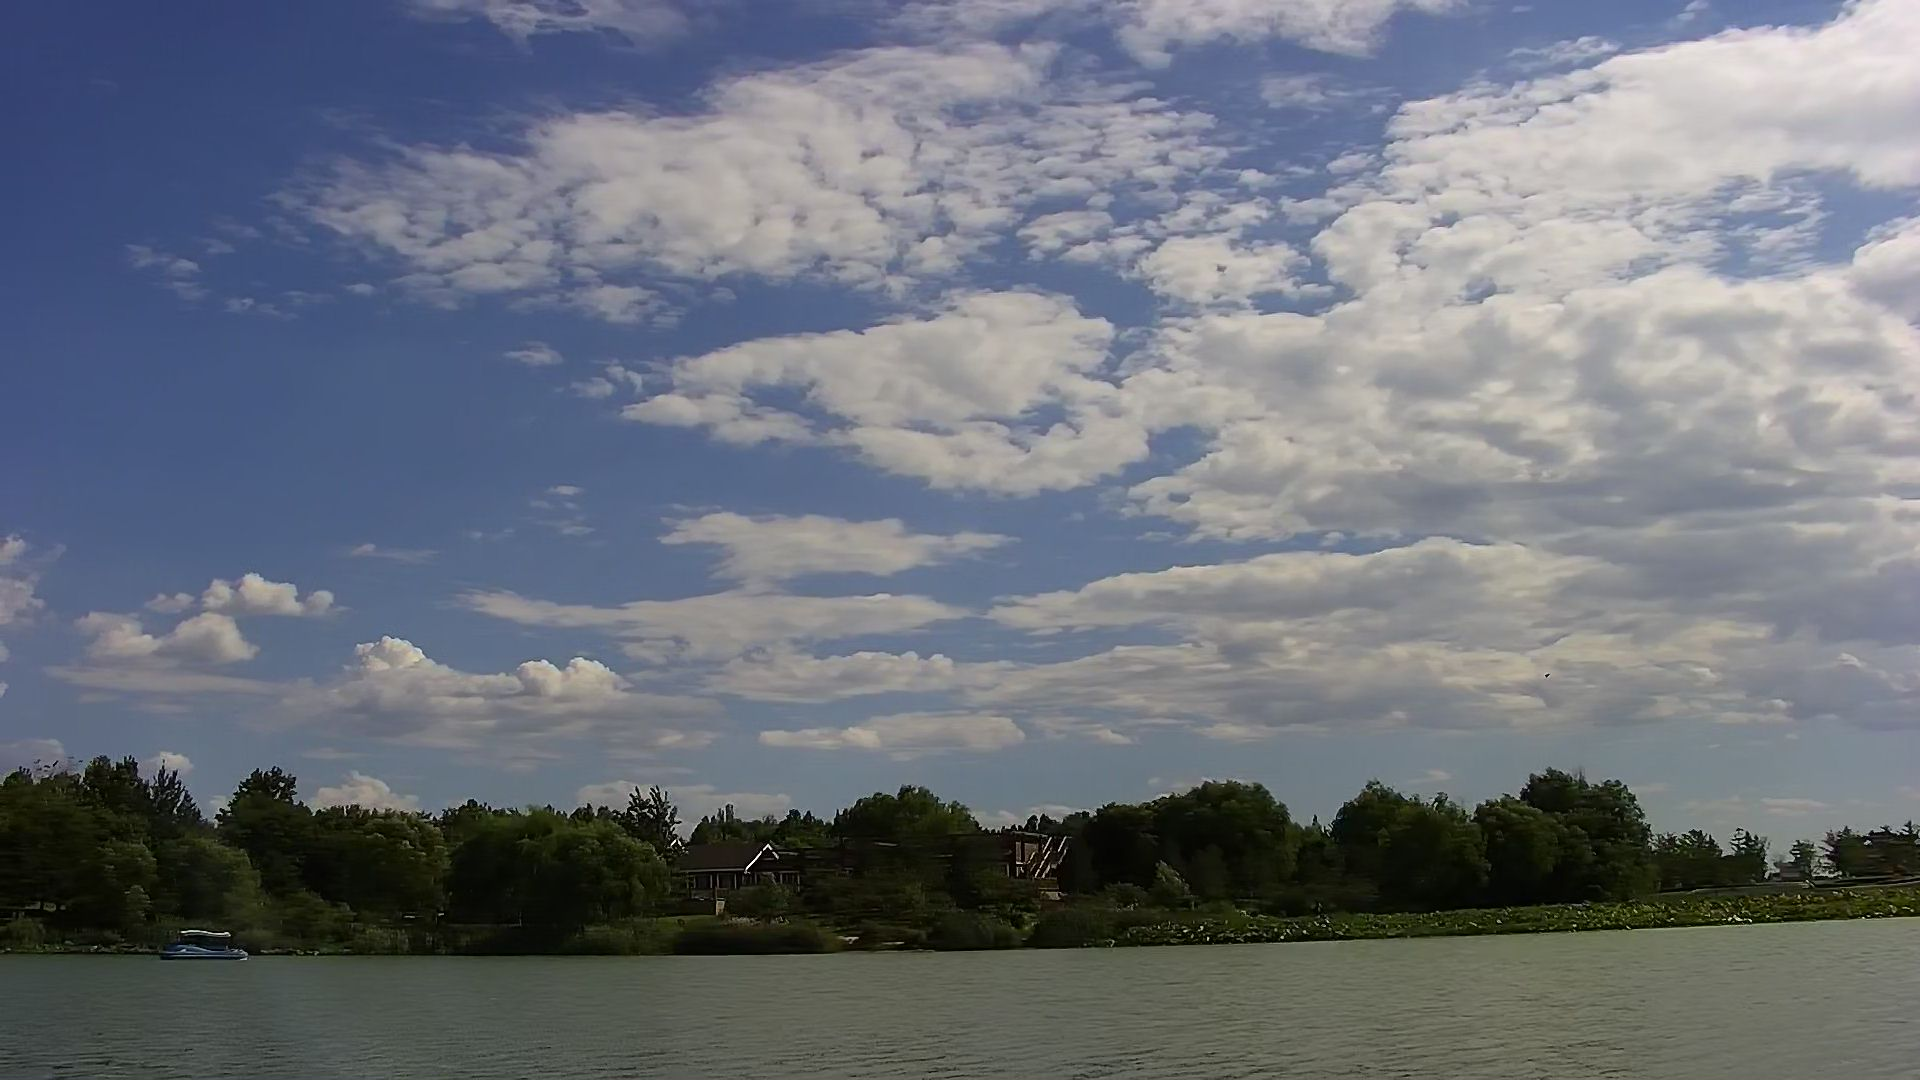boat: (156, 922, 261, 971)
